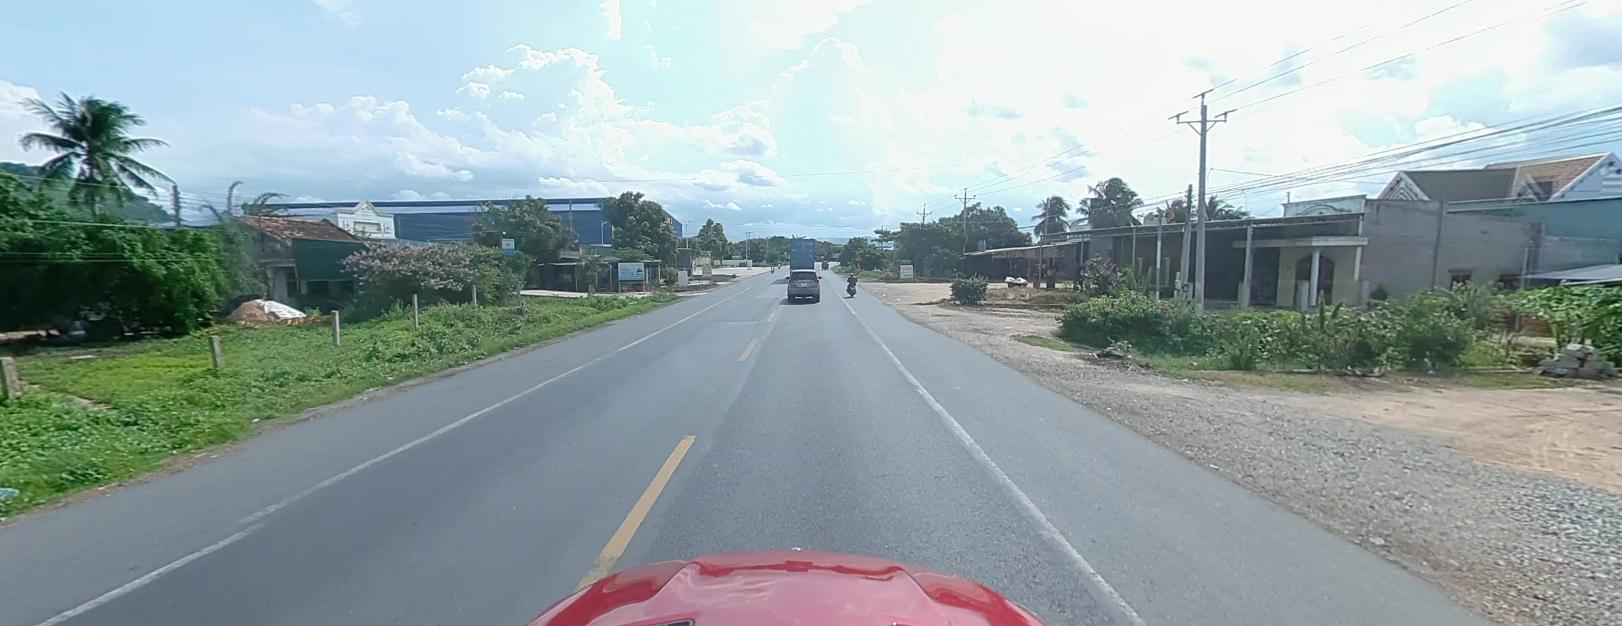Nguy hiem: (855, 252, 862, 259)
